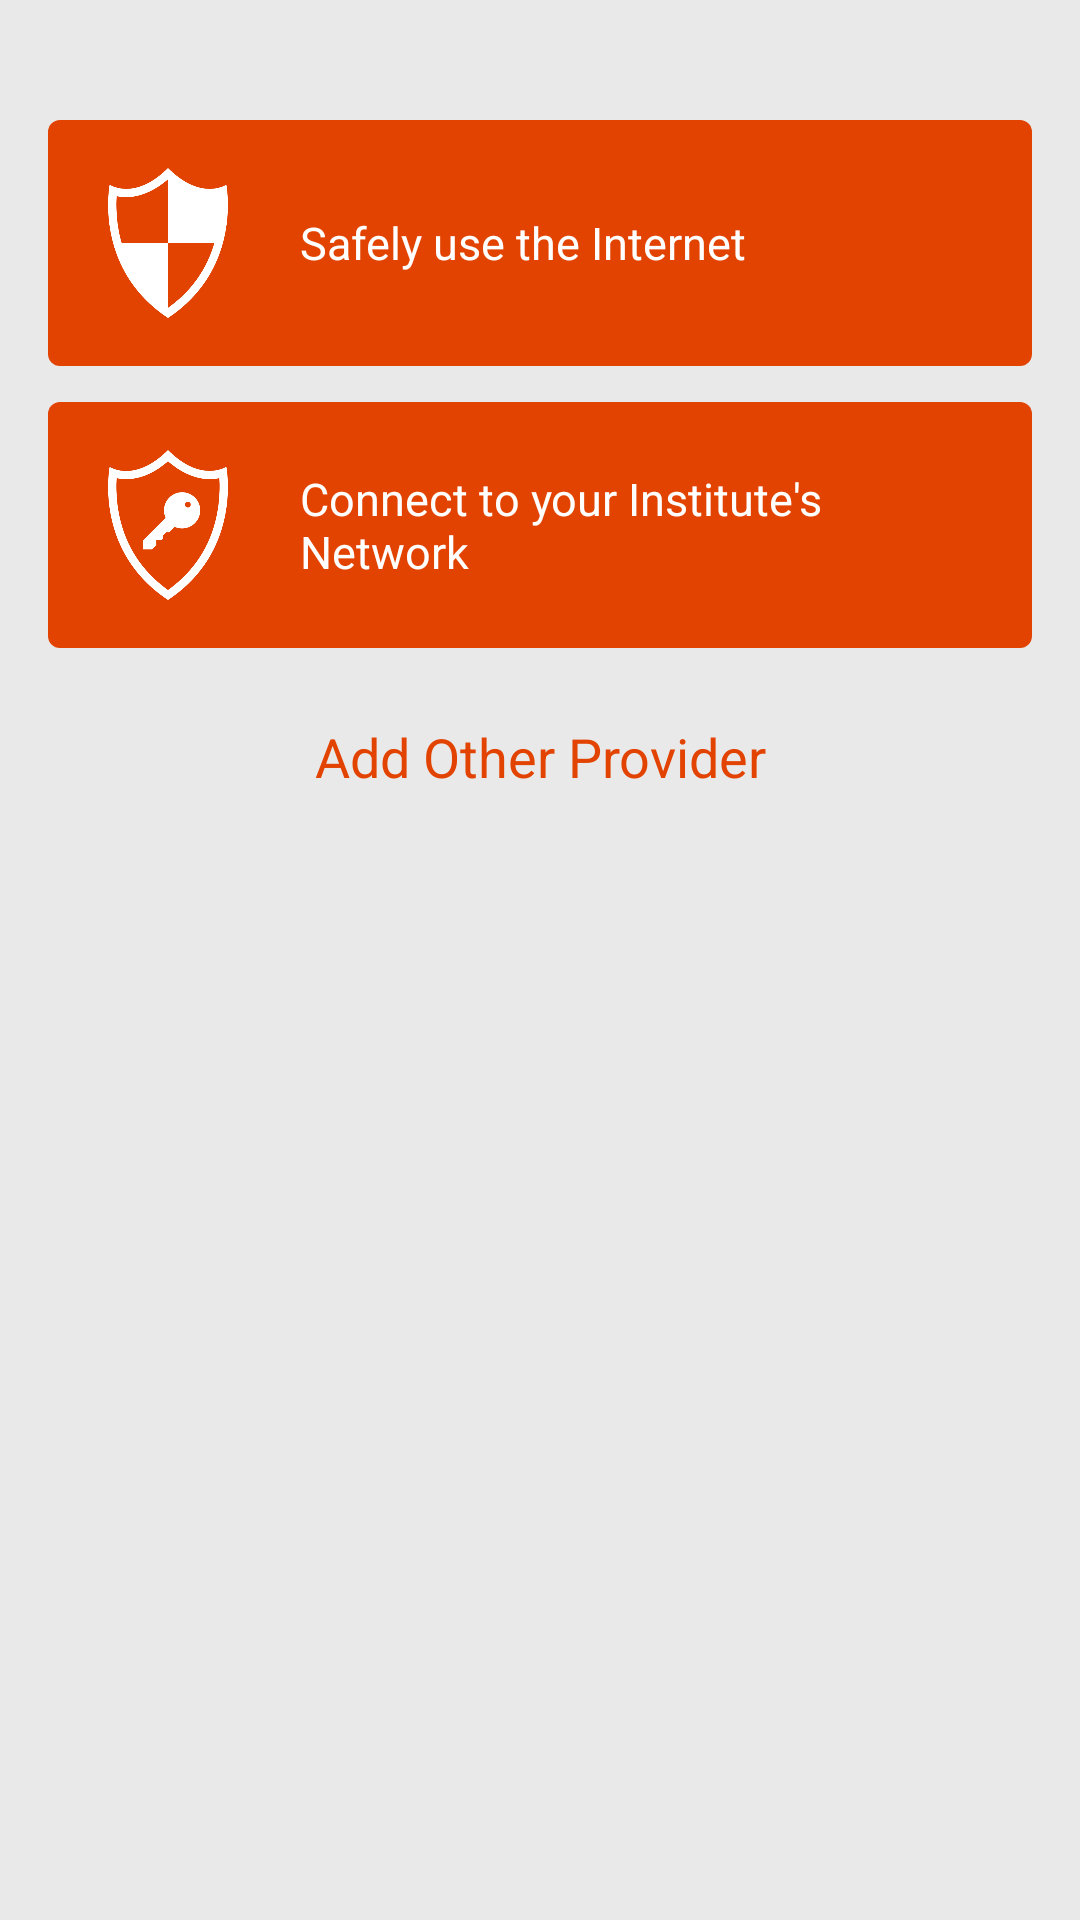

Where to tap for icons on this 1080×1920 app screen, as [x,y]:
Institute Access: [168,525]
Secure Internet: [168,243]
